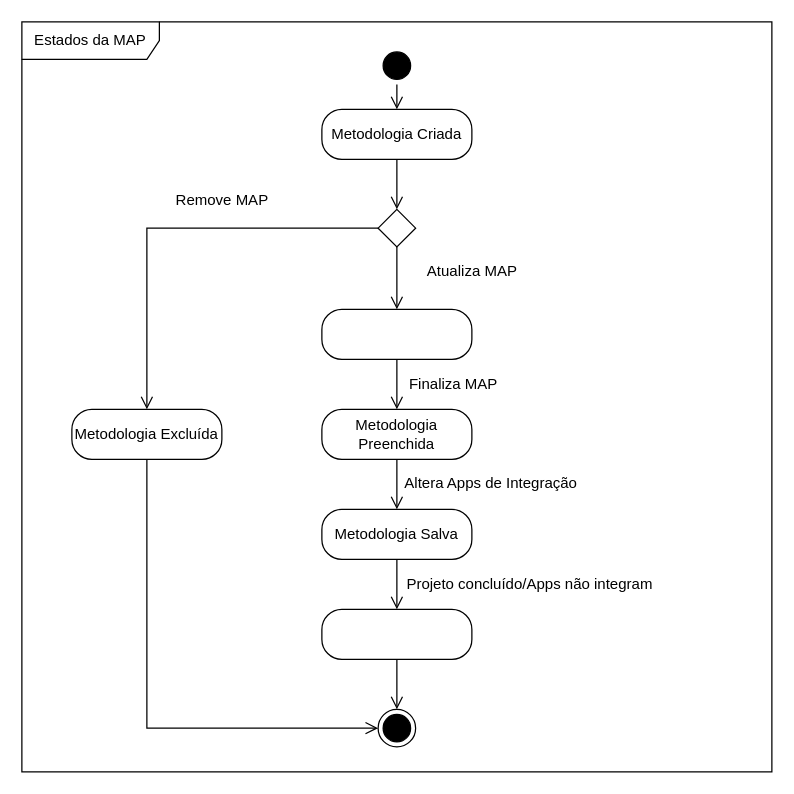
The diagram is 794 pixels wide and 794 high, and some of its shapes have lost their labels. The centre of each missing label's shape, as x and y in pixels:
Metodologia Editada: point 396,333
Metodologia em Uso: point 396,633
